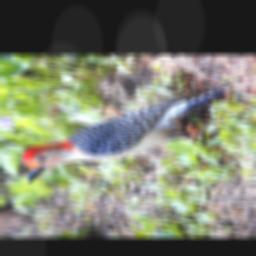Woodpecker: (18, 88, 232, 183)
